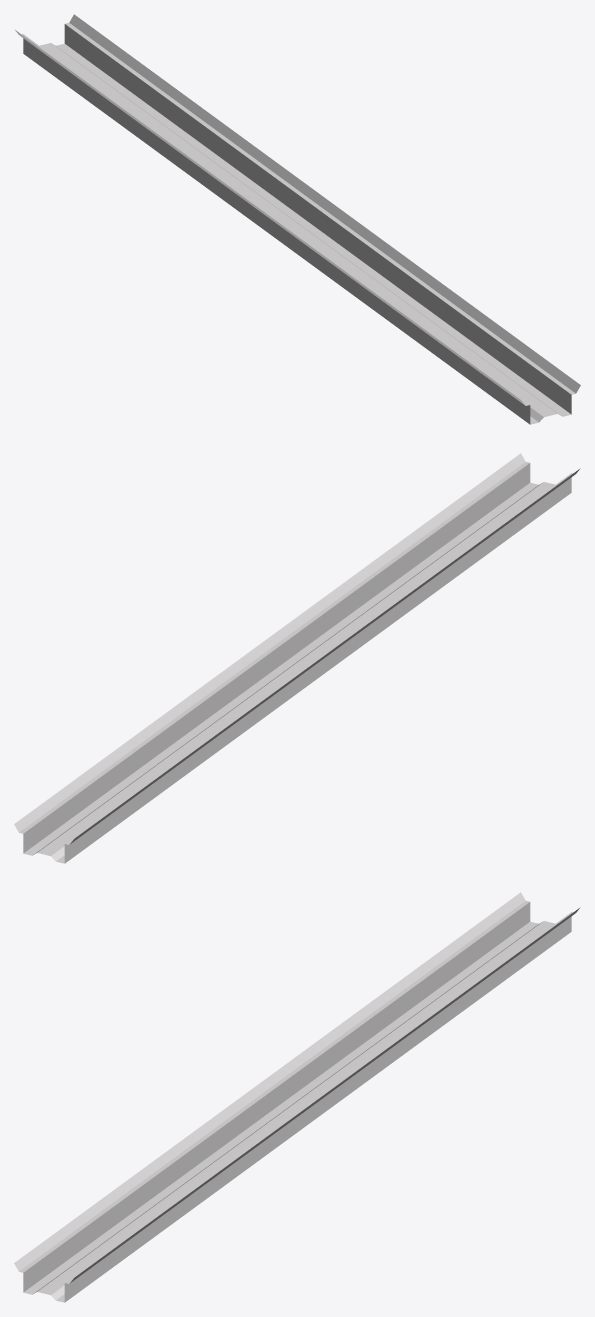
File: SM_Ceilingblock_2.fbx
3 renders of one model, top to bottom at view 1: azimuth 30°, elevation 25°; view 2: azimuth 150°, elevation 25°; view 3: azimuth 330°, elevation 25°, orthographic.
Visible parts, largest first — view 1: SM_Ceilingblock_2; view 2: SM_Ceilingblock_2; view 3: SM_Ceilingblock_2.
Part boxes in pixels (x1,y1,x2,y2): SM_Ceilingblock_2: [14, 14, 580, 424]; SM_Ceilingblock_2: [14, 453, 580, 863]; SM_Ceilingblock_2: [14, 892, 580, 1302].
Size of the model in its own units: 96.38 by 1408 by 41.63.
1 material, 1 textured.
